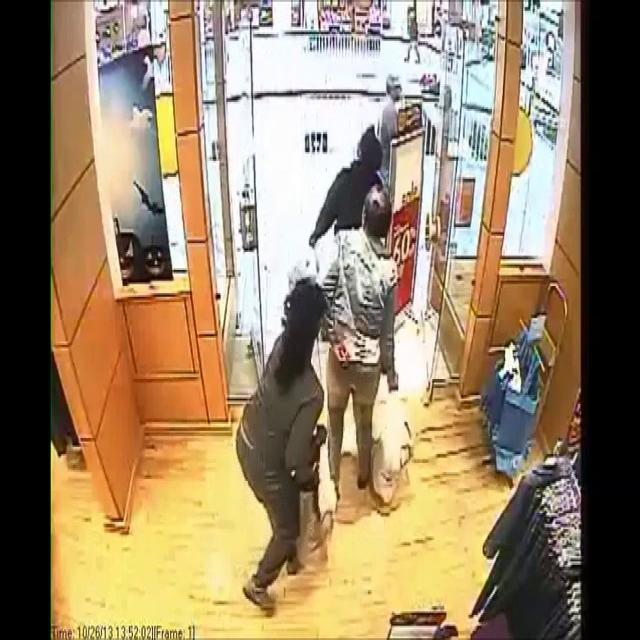normal: (234, 256, 346, 630), (319, 174, 421, 560), (340, 122, 389, 182), (376, 68, 405, 118)
